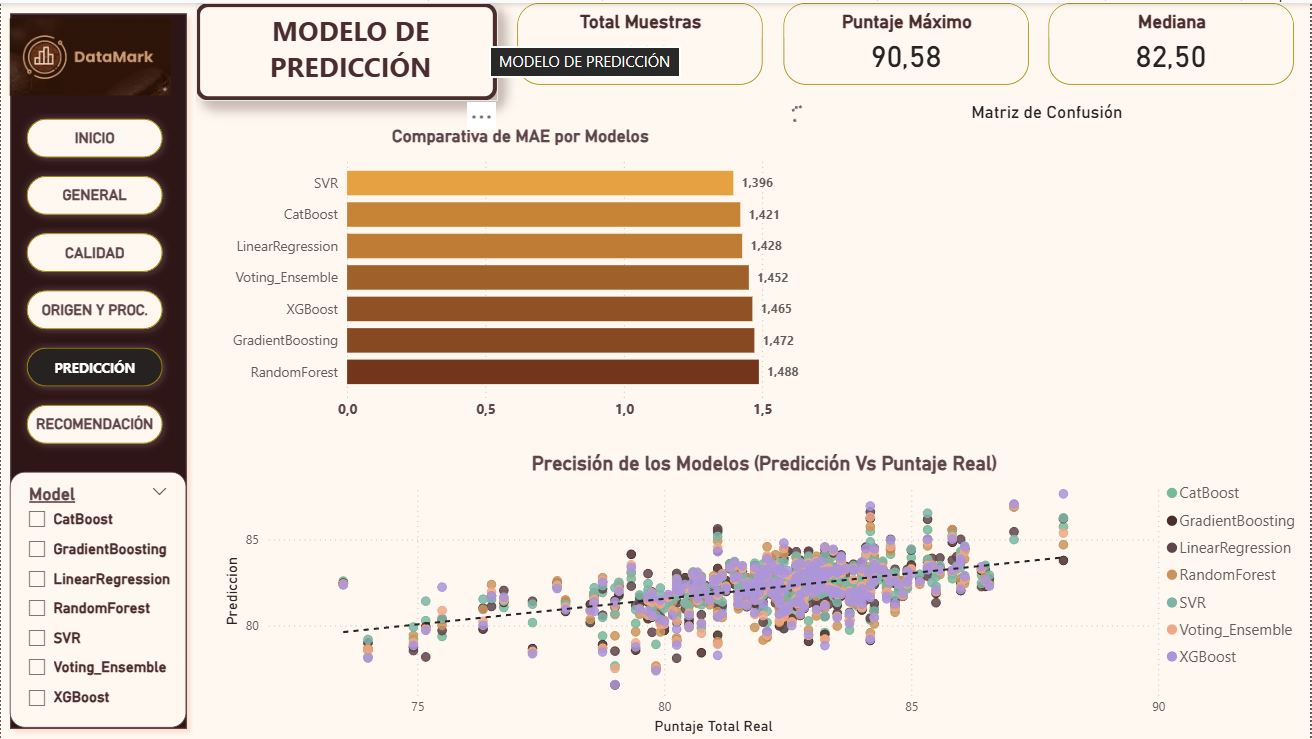

Layout of this report page (visuals, bound fields, positions):
{"tool":"powerbi","page":{"name":"PREDICCIÓN","canvas":[1280,720],"ordinal":4},"visuals":[{"type":"clusteredBarChart","title":"Comparativa de MAE por Modelos","fields":{"Category":["model_comparison_ranking.Model"],"Y":["Avg(model_comparison_ranking.MAE)"]},"box":[212.8,119.8,590.6,297.1],"z":0},{"type":"scatterChart","title":"Precisión de los Modelos (Predicción Vs Puntaje Real)","fields":{"X":["predicciones_totales.Total_Cup_Points"],"Y":["predicciones_totales.Prediccion"],"Series":["predicciones_totales.Modelo"]},"box":[212.8,439,1067.5,281.3],"z":1000},{"type":"pythonVisual","title":"Matriz de Confusión","fields":{"Values":["predicciones_totales.Total_Cup_Points","predicciones_totales.Prediccion","predicciones_totales.Modelo"]},"box":[766.1,96.7,513.2,312.4],"z":2000},{"type":"card","title":"Puntaje Máximo","fields":{"Values":["Medidas.Puntaje Maximo"]},"box":[765,0,240,80],"z":4000},{"type":"card","title":"Mediana","fields":{"Values":["Medidas.Mediana"]},"box":[1025,0,240,80],"z":5000},{"type":"card","title":"Total Muestras","fields":{"Values":["Medidas.Total Muestras"]},"box":[505,0,240,80],"z":6000},{"type":"textbox","title":"MODELO DE PREDICCIÓN","box":[190.8,0,294.7,95.4],"z":11000},{"type":"shape","box":[0,1.2,190.8,717.8],"z":11001},{"type":"pageNavigator","box":[17.1,105.2,149.2,339.9],"z":11002},{"type":"slicer","fields":{"Values":["model_comparison_ranking.Model"]},"box":[8.6,458.6,172.4,250.7],"z":11003},{"type":"image","box":[8.6,0,157.7,105.2],"z":11004}]}

Visuals, with their boxes on the page's 1280x720 design canvas (x1, y1, x2, y2). These are canvas units, not pixel positions in the 1312x739 screenshot, which may show the page scaled, cropped or inside an application window:
"Comparativa de MAE por Modelos" clusteredBarChart: left=213, top=120, right=803, bottom=417
"Precisión de los Modelos (Predicción Vs Puntaje Real)" scatterChart: left=213, top=439, right=1280, bottom=720
"Matriz de Confusión" pythonVisual: left=766, top=97, right=1279, bottom=409
"Puntaje Máximo" card: left=765, top=0, right=1005, bottom=80
"Mediana" card: left=1025, top=0, right=1265, bottom=80
"Total Muestras" card: left=505, top=0, right=745, bottom=80
"MODELO DE PREDICCIÓN" textbox: left=191, top=0, right=486, bottom=95
shape: left=0, top=1, right=191, bottom=719
pageNavigator: left=17, top=105, right=166, bottom=445
slicer - model_comparison_ranking.Model: left=9, top=459, right=181, bottom=709
image: left=9, top=0, right=166, bottom=105
